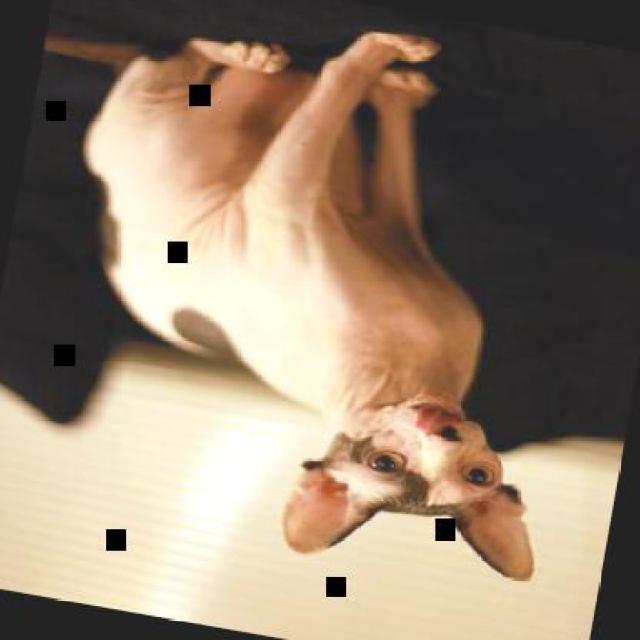cat: (21, 0, 622, 597)
